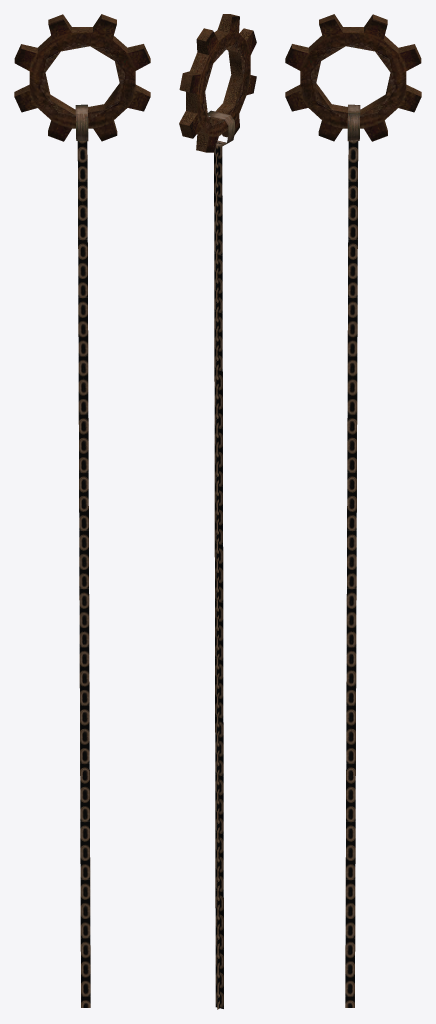
File: gear_club3_6m.fbx
3 views of the same model, side by side, from view 1: azimuth 90°, elevation 25°; view 2: azimuth 150°, elevation 25°; view 3: azimuth 270°, elevation 25° (orthographic).
Visible parts, largest first — view 1: mesh_1, mesh_0; view 2: mesh_1, mesh_0; view 3: mesh_1, mesh_0.
Part boxes in pixels (x1,y1,x2,y2): mesh_1: (75,104,90,1007); mesh_0: (14,14,150,141); mesh_1: (207,110,235,1009); mesh_0: (179,14,256,152); mesh_1: (345,104,360,1007); mesh_0: (285,14,421,141).
Bounding box in the file's own units: 20.78 × 684 × 85.16.
Materials: 2 (2 with a texture image).
